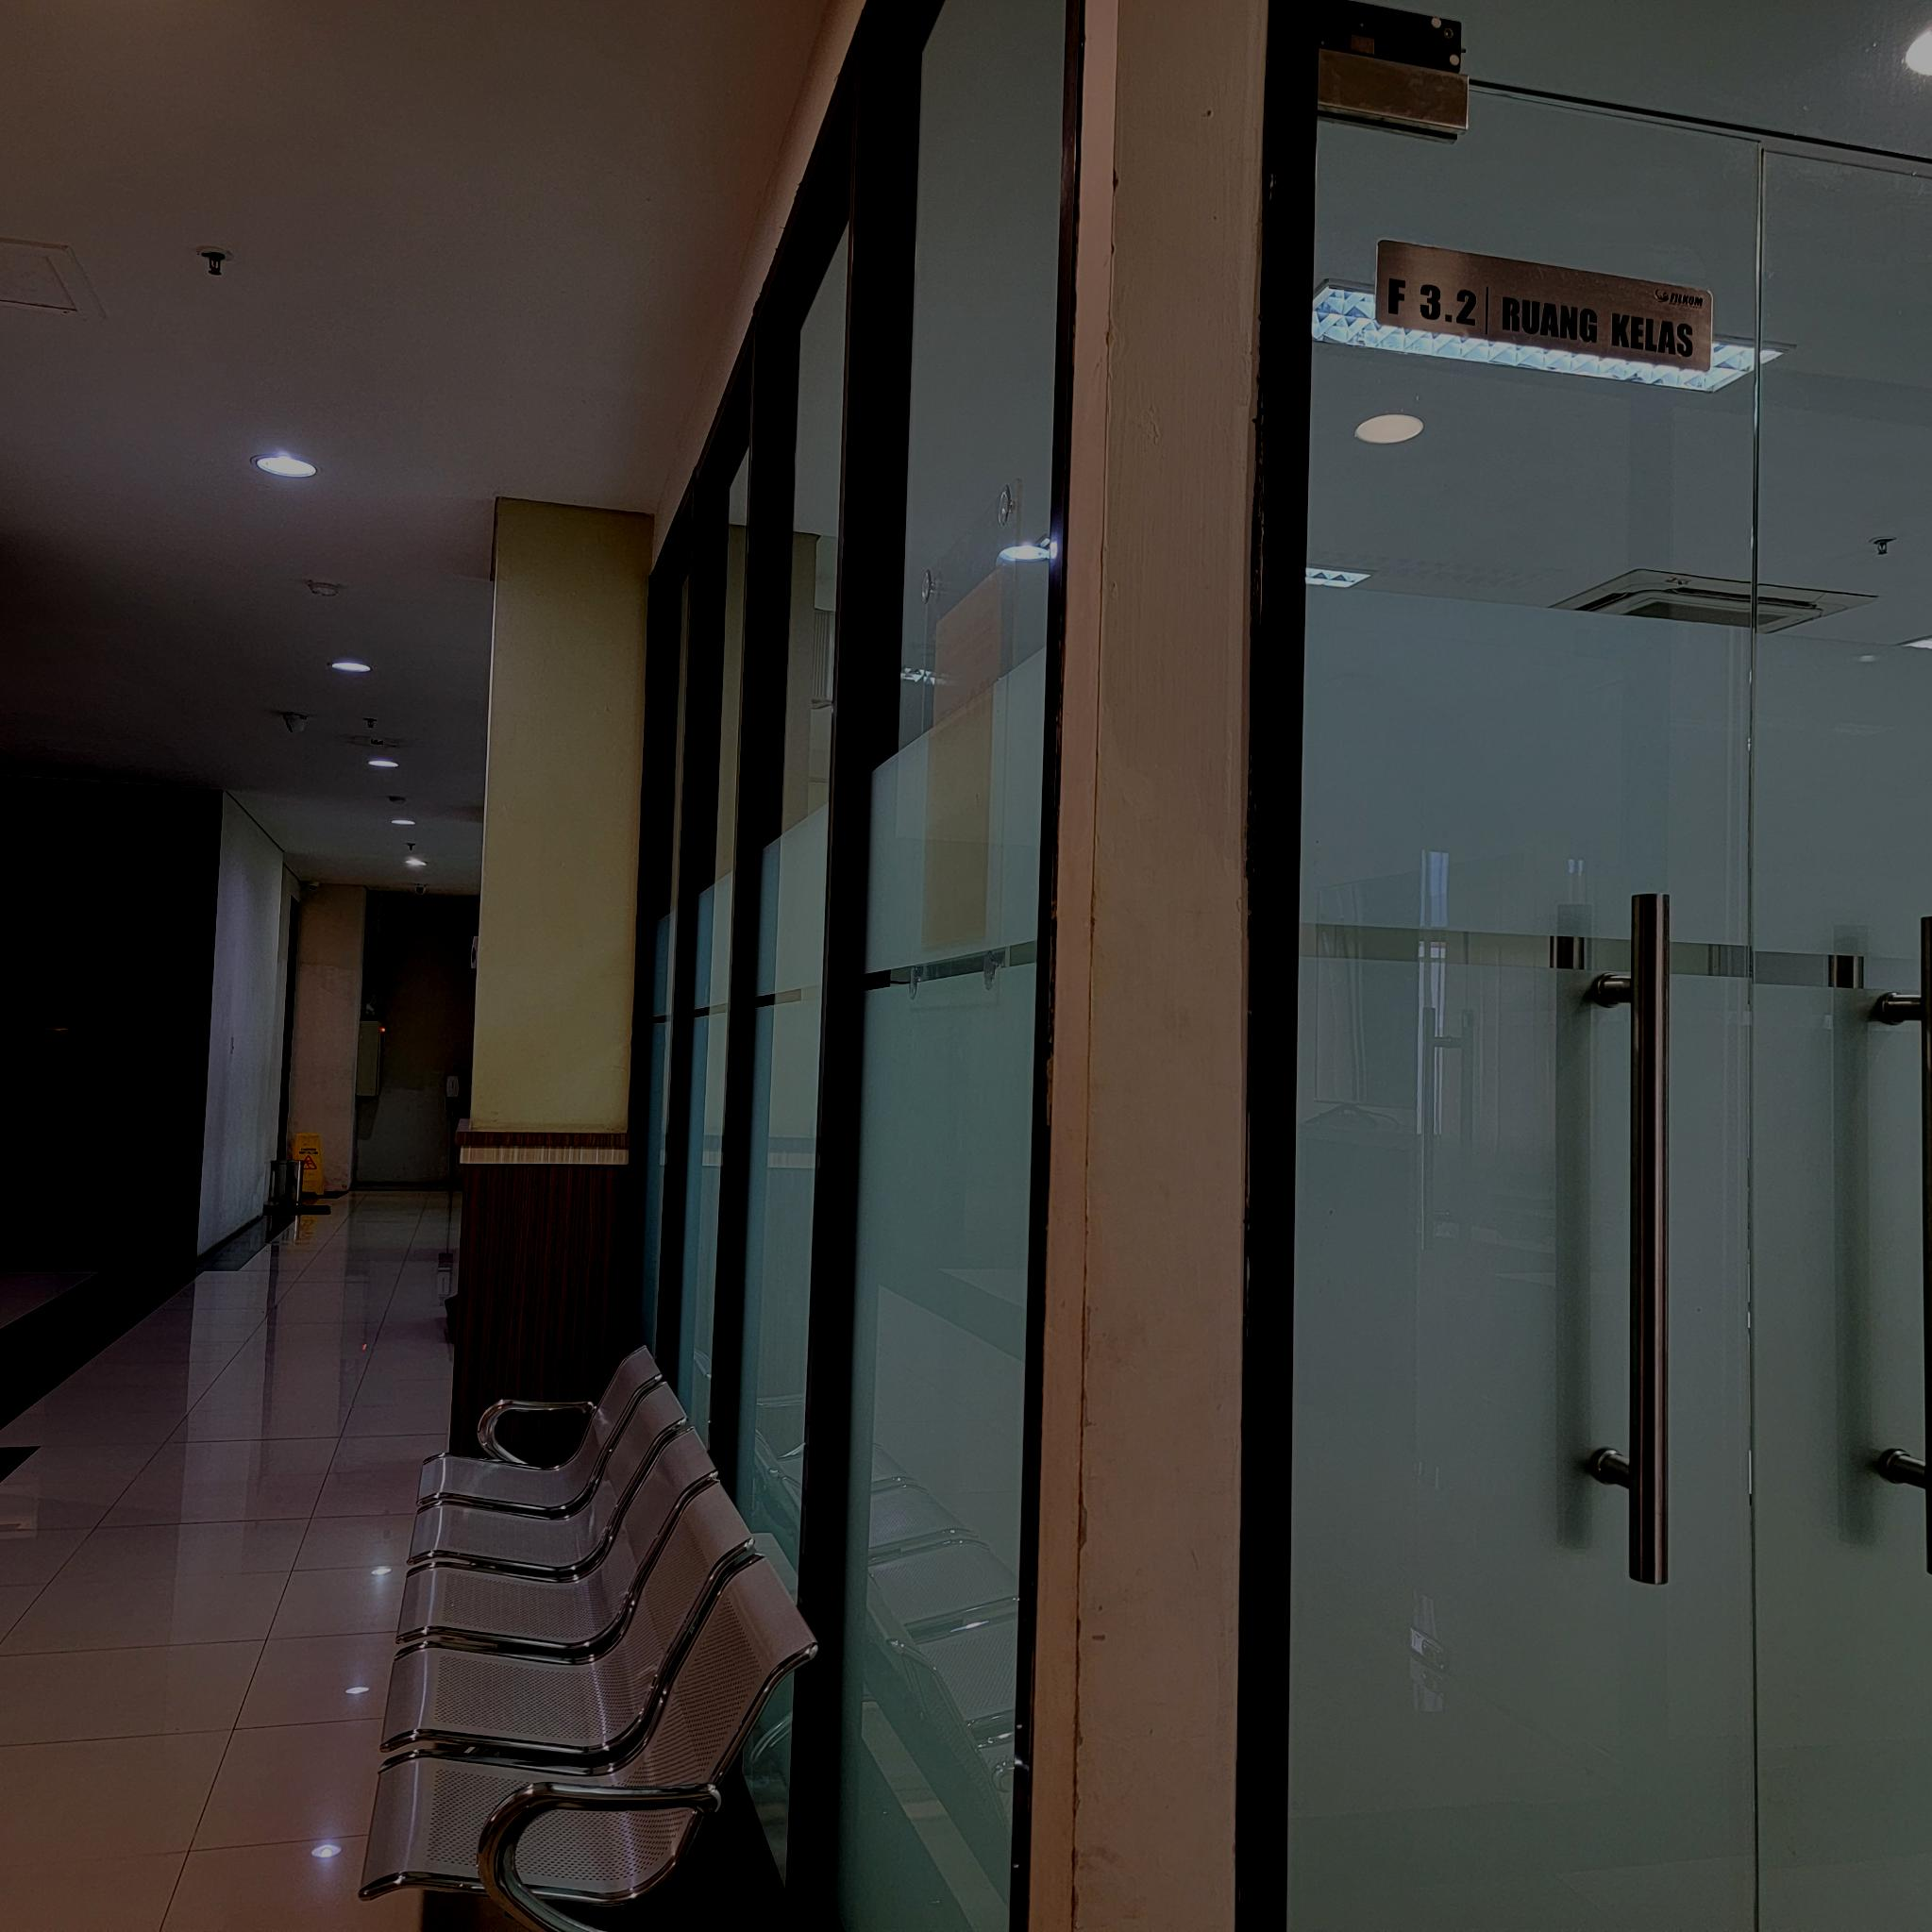plate: (1375, 237, 1714, 373)
